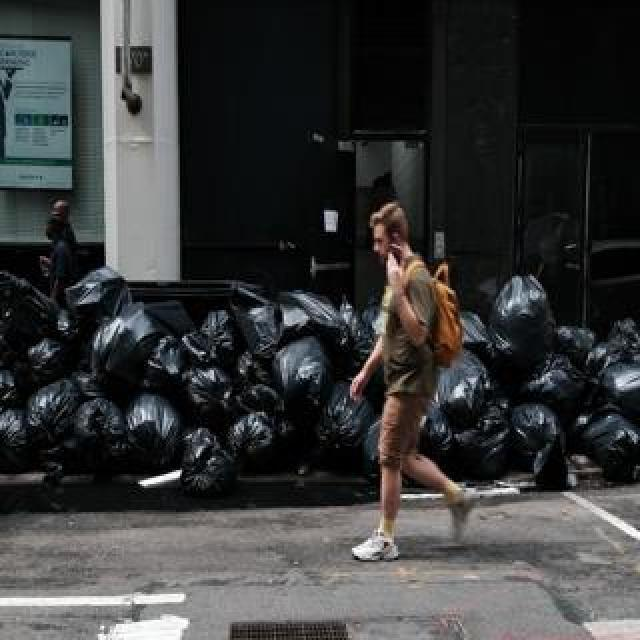Trashbag: (495, 280, 555, 349), (302, 388, 365, 448), (120, 403, 178, 465), (68, 395, 120, 463), (458, 420, 516, 477), (579, 422, 640, 472), (183, 428, 230, 492), (96, 321, 138, 388), (578, 325, 628, 378), (512, 402, 558, 452), (61, 277, 115, 319), (277, 338, 320, 389), (526, 352, 576, 395), (178, 361, 222, 407), (236, 413, 282, 455), (440, 361, 478, 409), (234, 354, 272, 400), (29, 384, 61, 434), (242, 298, 278, 342), (144, 333, 172, 382), (185, 318, 227, 350), (1, 416, 27, 456), (468, 308, 488, 342), (426, 418, 446, 448), (32, 343, 48, 374)
